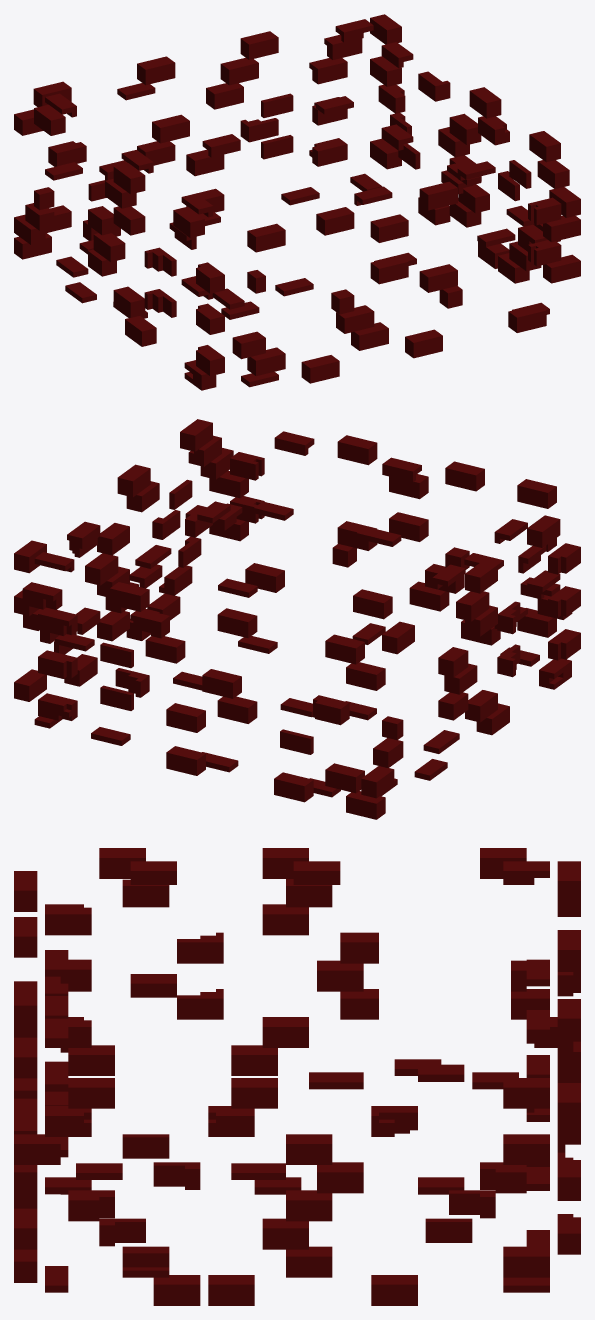
The model's file is brickhouse-2.obj.
The picture shows the model from 3 angles, top to bottom: view 1: azimuth 30°, elevation 25°; view 2: azimuth 150°, elevation 25°; view 3: azimuth 270°, elevation 25°; orthographic projection. The views are drawn at different scales.
Size of the model in its own units: 7.3 by 3.1 by 7.3.
1 material, 1 textured.
